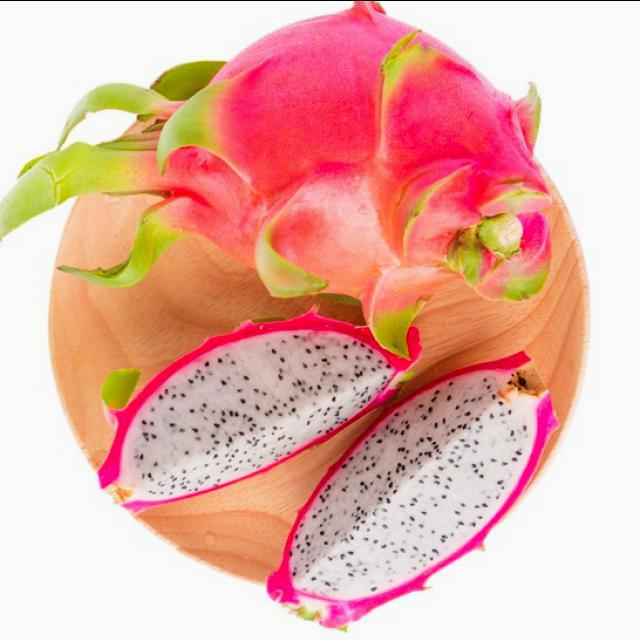trang: (0, 1, 555, 313), (262, 355, 556, 635), (98, 311, 421, 513)
